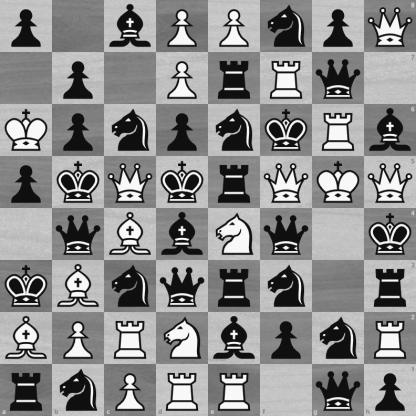B: (1, 313, 52, 364), (53, 261, 104, 312), (105, 209, 156, 260)
K: (1, 105, 52, 156), (313, 157, 364, 208)
N: (157, 313, 208, 364), (209, 209, 260, 260)
P: (104, 364, 156, 416), (53, 313, 104, 364), (157, 1, 208, 52), (157, 53, 208, 104), (209, 1, 260, 52)
Q: (364, 156, 416, 209), (364, 0, 416, 52), (105, 157, 156, 208), (261, 157, 312, 208)
R: (156, 364, 209, 416), (364, 312, 416, 364), (209, 364, 260, 416), (105, 313, 156, 364), (261, 53, 312, 104), (313, 105, 364, 156)
b: (364, 104, 416, 156), (105, 1, 156, 52), (157, 209, 208, 260), (209, 313, 260, 364)
board: (0, 0, 415, 415)
k: (364, 209, 416, 260), (1, 261, 52, 312), (53, 157, 104, 208), (157, 157, 208, 208), (261, 105, 312, 156)
n: (52, 364, 104, 416), (105, 105, 156, 156), (105, 261, 156, 312), (209, 105, 260, 156), (261, 1, 312, 52), (261, 261, 312, 312), (313, 313, 364, 364)
p: (364, 364, 416, 416), (1, 1, 52, 52), (1, 157, 52, 208), (53, 53, 104, 104), (53, 105, 104, 156), (157, 105, 208, 156), (261, 313, 312, 364), (313, 1, 364, 52)
q: (312, 364, 364, 416), (53, 209, 104, 260), (157, 261, 208, 312), (261, 209, 312, 260), (313, 53, 364, 104)
r: (0, 364, 52, 416), (364, 260, 416, 312), (209, 53, 260, 104), (209, 157, 260, 208), (209, 261, 260, 312)
